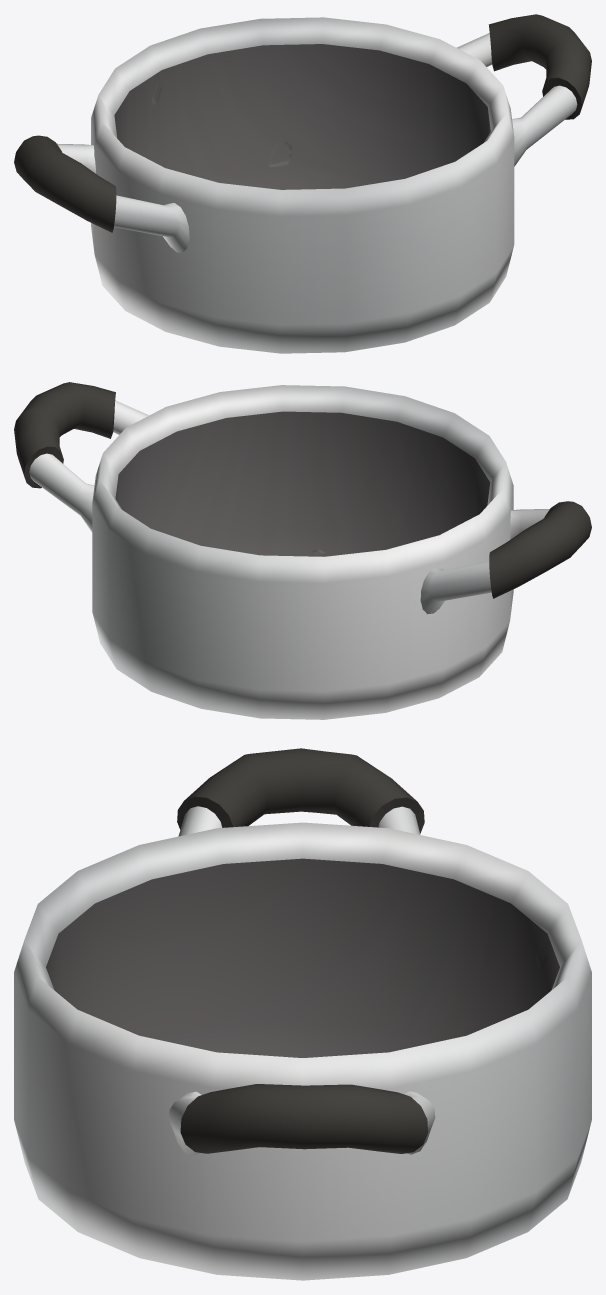
File: pot.fbx
3 renders of one model, top to bottom at view 1: azimuth 30°, elevation 25°; view 2: azimuth 150°, elevation 25°; view 3: azimuth 270°, elevation 25°, orthographic. The views are drawn at different scales.
Parts seen in each view (by area): view 1: Pot, Handole2, Handole3; view 2: Pot, Handole2, Handole3; view 3: Pot, Handole2, Handole3.
Part boxes in pixels (x1,y1,x2,y2): Pot: (91, 17, 514, 353); Handole2: (456, 14, 591, 166); Handole3: (14, 135, 189, 252); Pot: (92, 385, 513, 719); Handole2: (14, 382, 148, 532); Handole3: (420, 501, 591, 614); Pot: (14, 822, 591, 1280); Handole2: (169, 1084, 435, 1155); Handole3: (177, 748, 424, 836).
Bounding box in the file's own units: 69.34 × 21.56 × 46.44.
